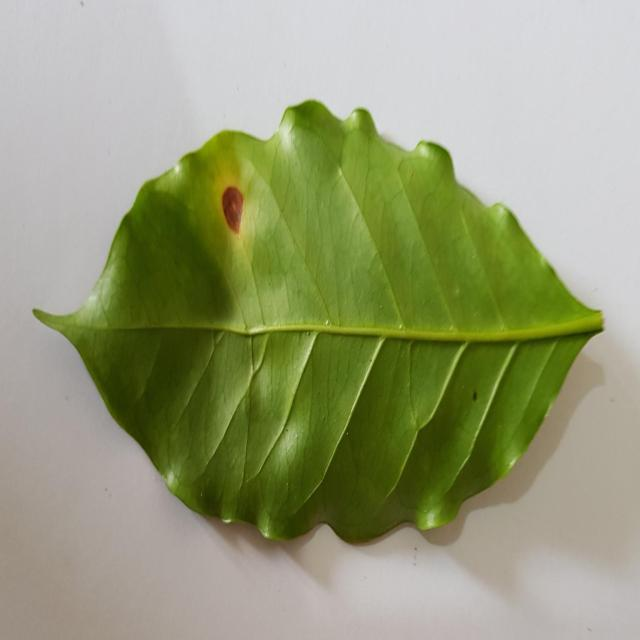Enfermedad-Mancha-de-hierro: (31, 101, 605, 548)
